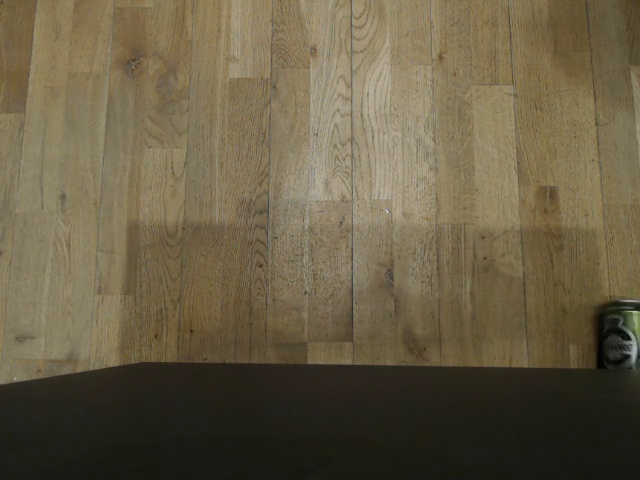beer: (586, 295, 640, 368)
